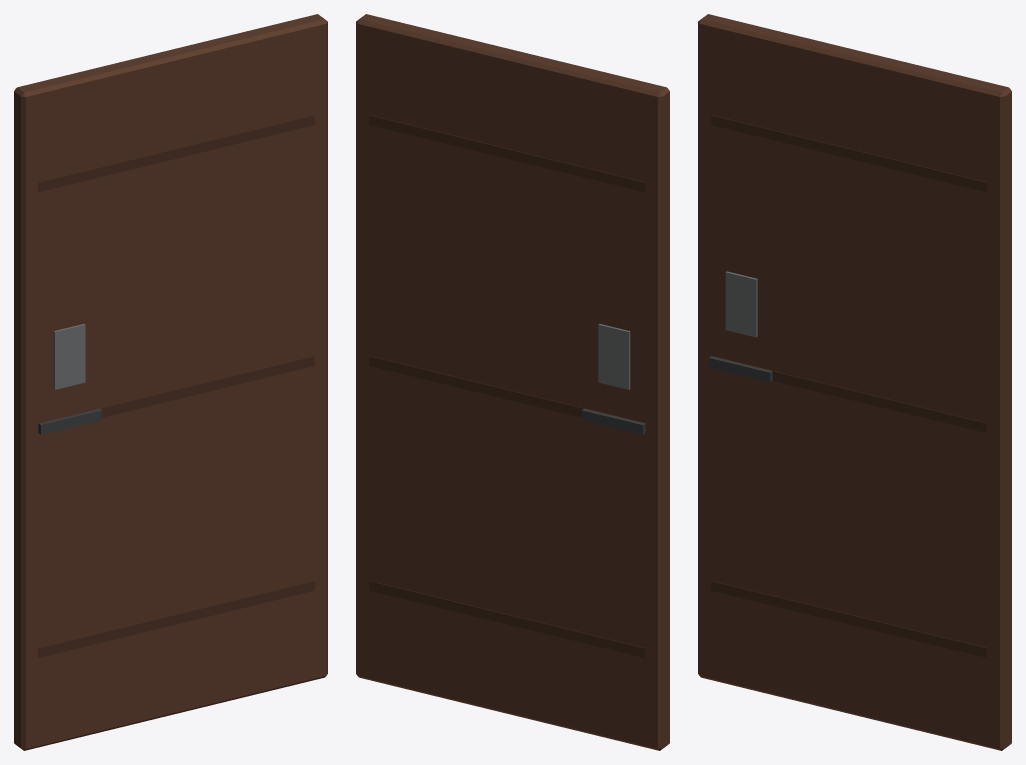
The model's file is door_metal.glb.
3 views of the same model, side by side, from view 1: azimuth 30°, elevation 25°; view 2: azimuth 150°, elevation 25°; view 3: azimuth 330°, elevation 25° (orthographic).
Visible parts, largest first — view 1: anim_door_L; view 2: anim_door_L; view 3: anim_door_L.
Boxes of the visible parts, x1,y1,x2,y2 form: anim_door_L: (14,14,327,750); anim_door_L: (356,14,669,750); anim_door_L: (698,14,1011,750).
Bounding box in the file's own units: 1 × 2.05 × 0.09.
